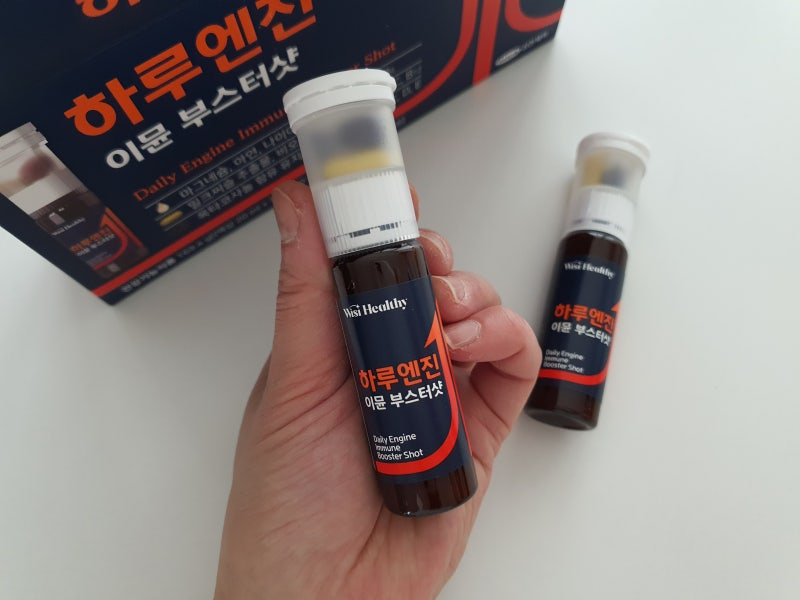supplement_label: (328, 277, 477, 492)
